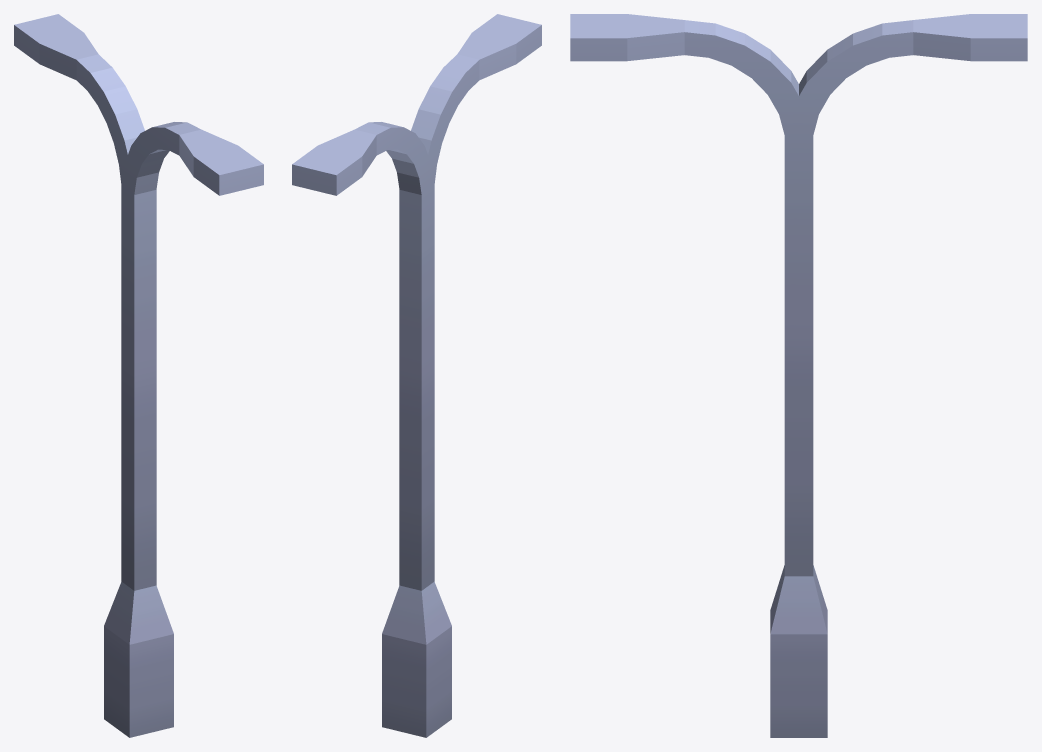
Rendered from roads__light-curved-double.glb.
The picture shows the model from 3 angles, left to right: view 1: azimuth 30°, elevation 25°; view 2: azimuth 150°, elevation 25°; view 3: azimuth 270°, elevation 25°; orthographic projection. The views are drawn at different scales.
Visible parts, largest first — view 1: light-curved-double; view 2: light-curved-double; view 3: light-curved-double.
Boxes of the visible parts, x1=… form: light-curved-double: x1=14, y1=14, x2=263, y2=737; light-curved-double: x1=292, y1=14, x2=541, y2=737; light-curved-double: x1=570, y1=14, x2=1027, y2=737.
Bounding box in the file's own units: 0.05 × 0.675 × 0.4.
1 material, 1 textured.
